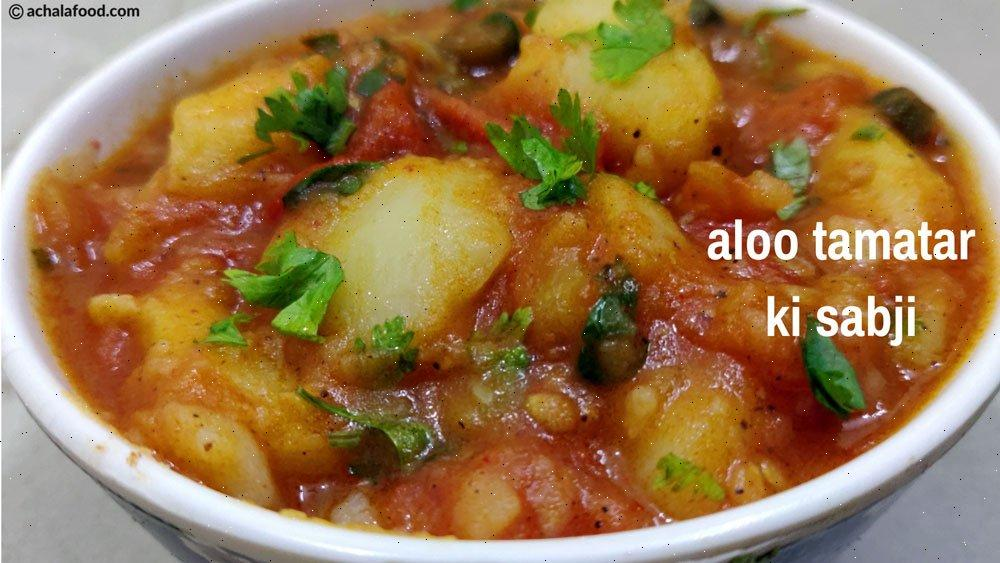aloo sabji: (58, 0, 984, 547)
